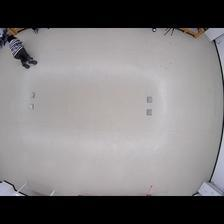fall: (6, 34, 39, 70)
